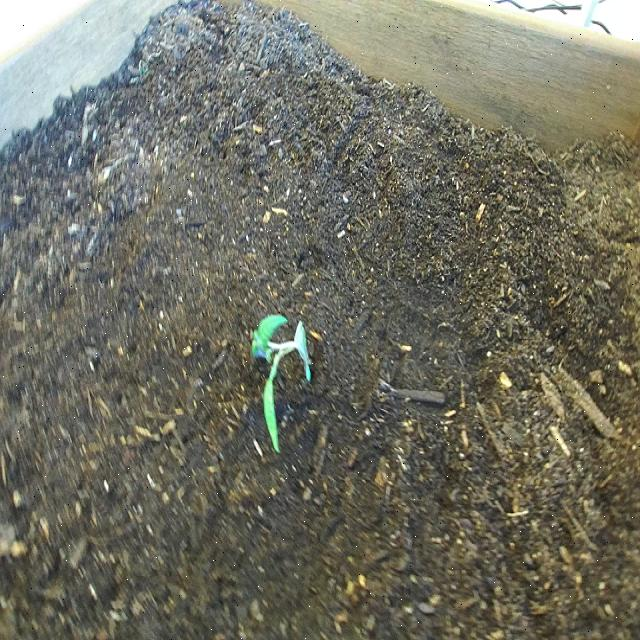Healthy: (242, 293, 326, 462)
